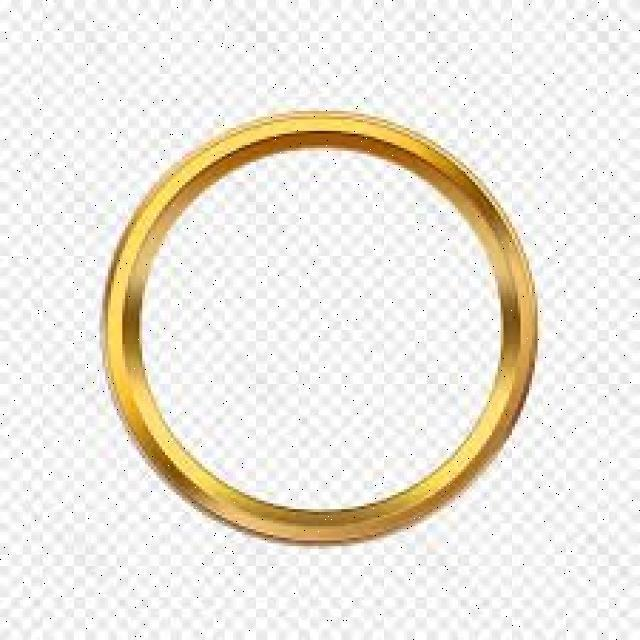Circle: (93, 106, 540, 548)
